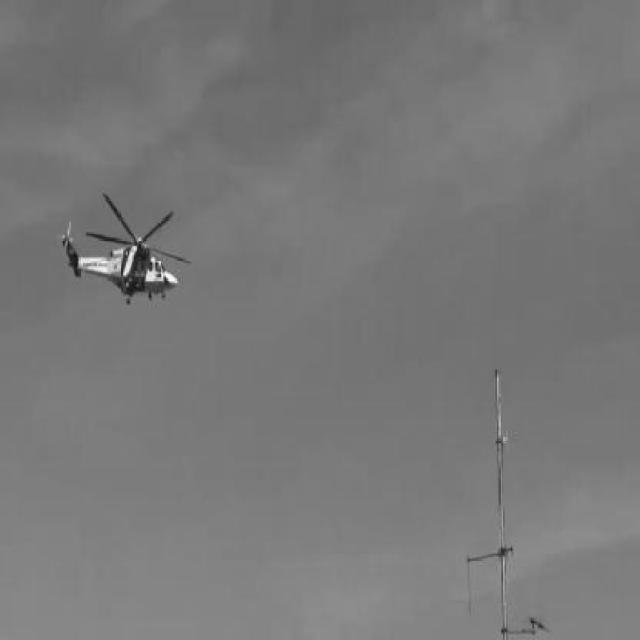helikopter: (59, 192, 192, 303)
